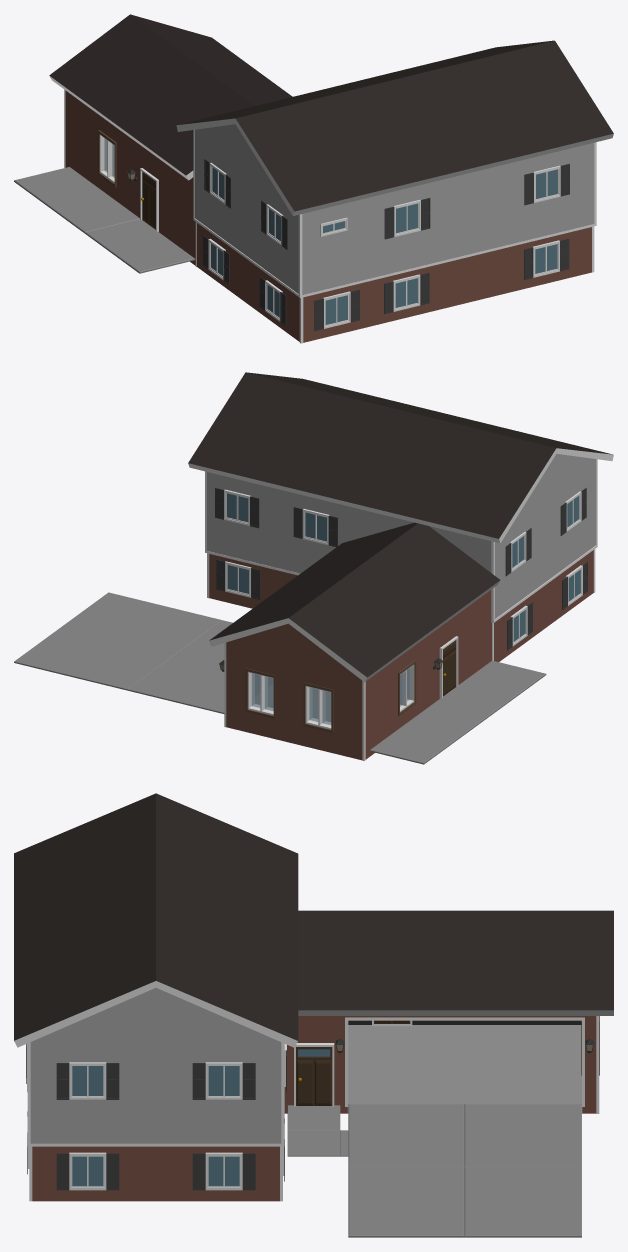
File: House_White.fbx
The picture shows the model from 3 angles, top to bottom: view 1: azimuth 30°, elevation 25°; view 2: azimuth 150°, elevation 25°; view 3: azimuth 270°, elevation 25°; orthographic projection. The views are drawn at different scales.
Visible parts, largest first — view 1: House_White; view 2: House_White; view 3: House_White.
Boxes of the visible parts, x1,y1,x2,y2 form: House_White: [14, 14, 613, 343]; House_White: [14, 372, 613, 764]; House_White: [14, 793, 613, 1237].
Size of the model in its own units: 63.8 by 27.36 by 65.15.
